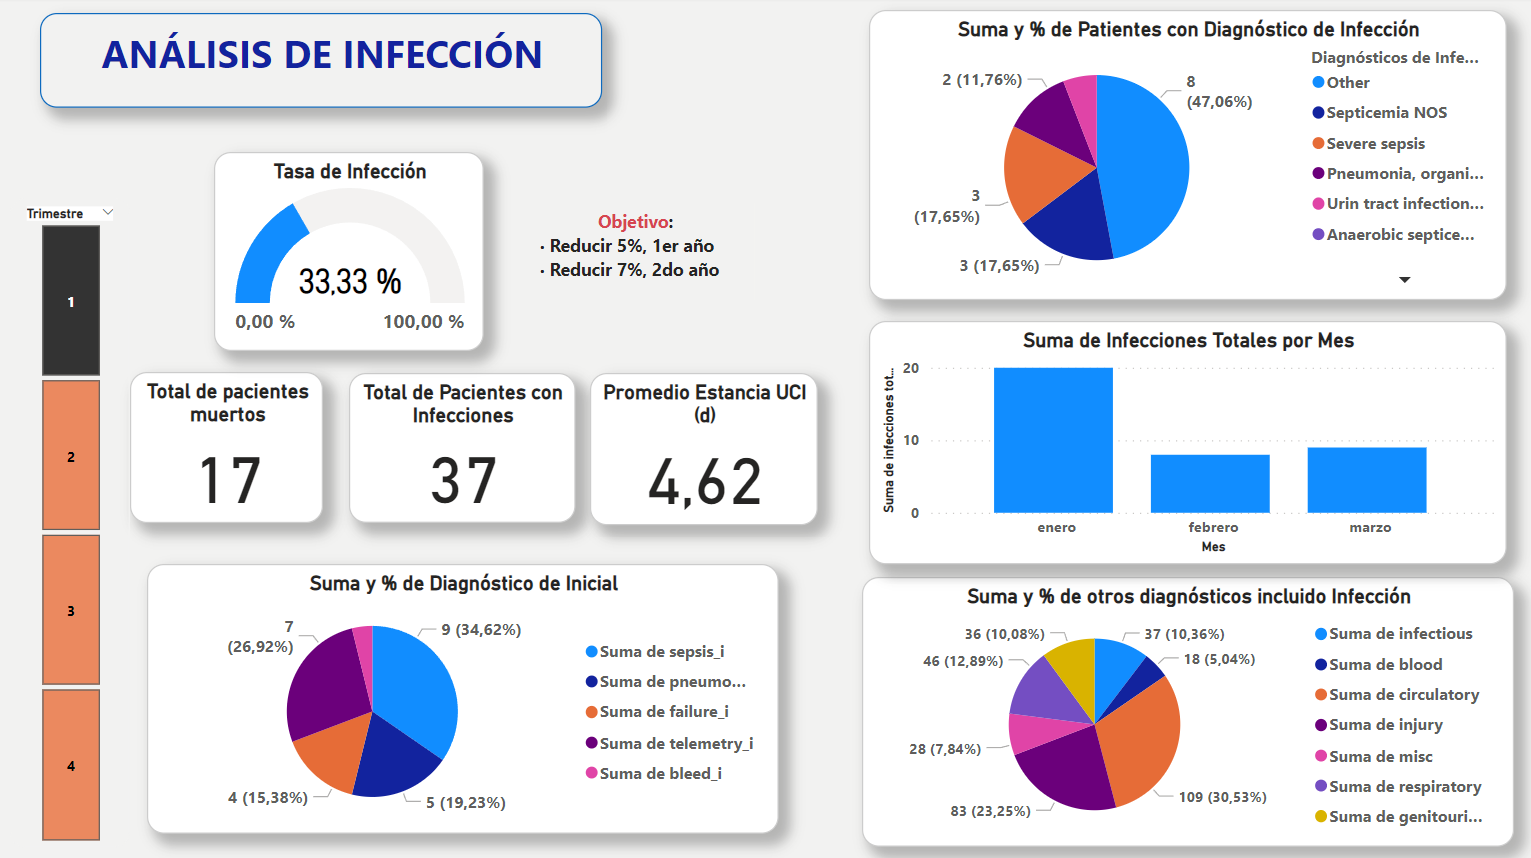

The page's visual inventory and layout, read from the dashboard file:
{"tool":"powerbi","page":{"name":"INFECCION","canvas":[1280,720],"ordinal":1},"visuals":[{"type":"pieChart","title":"Suma y %  de Diagnóstico de Inicial","fields":{"Y":["Sum(KPI_INFECCION.sepsis_i)","Sum(KPI_INFECCION.pneumonia_i)","Sum(KPI_INFECCION.failure_i)","Sum(KPI_INFECCION.telemetry_i)","Sum(KPI_INFECCION.bleed_i)"]},"box":[122.2,473.1,526.9,224.9],"z":0},{"type":"pieChart","title":"Suma y % de otros diagnósticos incluido Infección","fields":{"Y":["Sum(KPI_INFECCION.infectious)","Sum(KPI_INFECCION.blood)","Sum(KPI_INFECCION.circulatory)","Sum(KPI_INFECCION.injury)","Sum(KPI_INFECCION.misc)","Sum(KPI_INFECCION.respiratory)","Sum(KPI_INFECCION.genitourinary)"]},"box":[718.8,484.1,544,224.9],"z":1000},{"type":"card","title":"Total de pacientes muertos","fields":{"Values":["Sum(KPI_INFECCION.dead_patients)"]},"box":[108.8,312.9,161.4,125.9],"z":2000},{"type":"card","title":"Total de Pacientes con Infecciones","fields":{"Values":["Sum(KPI_INFECCION.infectious)"]},"box":[291.1,313.9,188.6,125.3],"z":3000},{"type":"slicer","fields":{"Values":["KPI_INFECCION.Trimestre"]},"box":[8.6,167.5,100.2,541.5],"z":4000},{"type":"pieChart","title":"Suma y % de Patientes con Diagnóstico de Infección","fields":{"Category":["KPI_INFECCION.diagnosis_infections"],"Y":["Sum(KPI_INFECCION.dead_patients)"]},"box":[724.9,11,531.7,242],"z":5000},{"type":"gauge","title":"Tasa de Infección","fields":{"Y":["KPI_INFECCION.Tasa_inf_diag_i"]},"box":[178.5,129.1,225.3,165.8],"z":6000},{"type":"clusteredColumnChart","title":"Suma de Infecciones Totales por Mes","fields":{"Category":["KPI_INFECCION.Nombre del mes"],"Y":["Sum(KPI_INFECCION.infectious)"]},"box":[724.9,270.2,531.7,202.9],"z":7000},{"type":"textbox","box":[33,13.4,469.4,79.5],"z":8000},{"type":"card","title":"Promedio Estancia UCI (d)","fields":{"Values":["Avg(KPI_LOS_MORTALIDAD.Estancia_ICU)"]},"box":[492.4,313.9,189.9,126.6],"z":9000},{"type":"textbox","box":[435.4,172.2,193.7,81],"z":10000}]}

Visuals, with their boxes in screenshot pixels (x1, y1, x2, y2), scaled from the page's 1280x720 canvas onto the 1531x858 screenshot:
"Suma y %  de Diagnóstico de Inicial" pieChart: [146, 564, 776, 832]
"Suma y % de otros diagnósticos incluido Infección" pieChart: [860, 577, 1510, 845]
"Total de pacientes muertos" card: [130, 373, 323, 523]
"Total de Pacientes con Infecciones" card: [348, 374, 574, 523]
slicer - KPI_INFECCION.Trimestre: [10, 200, 130, 845]
"Suma y % de Patientes con Diagnóstico de Infección" pieChart: [867, 13, 1503, 301]
"Tasa de Infección" gauge: [214, 154, 483, 351]
"Suma de Infecciones Totales por Mes" clusteredColumnChart: [867, 322, 1503, 564]
textbox: [39, 16, 601, 111]
"Promedio Estancia UCI (d)" card: [589, 374, 816, 525]
textbox: [521, 205, 752, 302]
